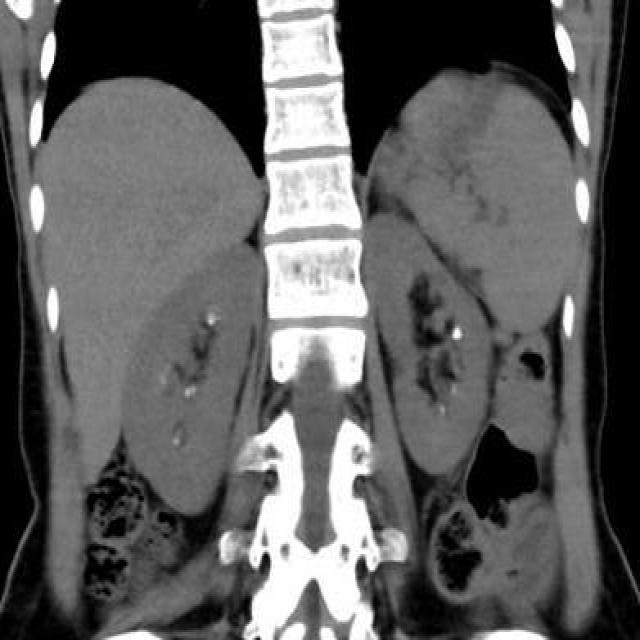Tas_Var: (205, 309, 219, 329), (170, 430, 180, 456), (158, 369, 168, 389), (452, 324, 462, 344), (449, 383, 459, 397), (184, 382, 191, 400), (438, 405, 448, 417), (191, 383, 197, 399)
